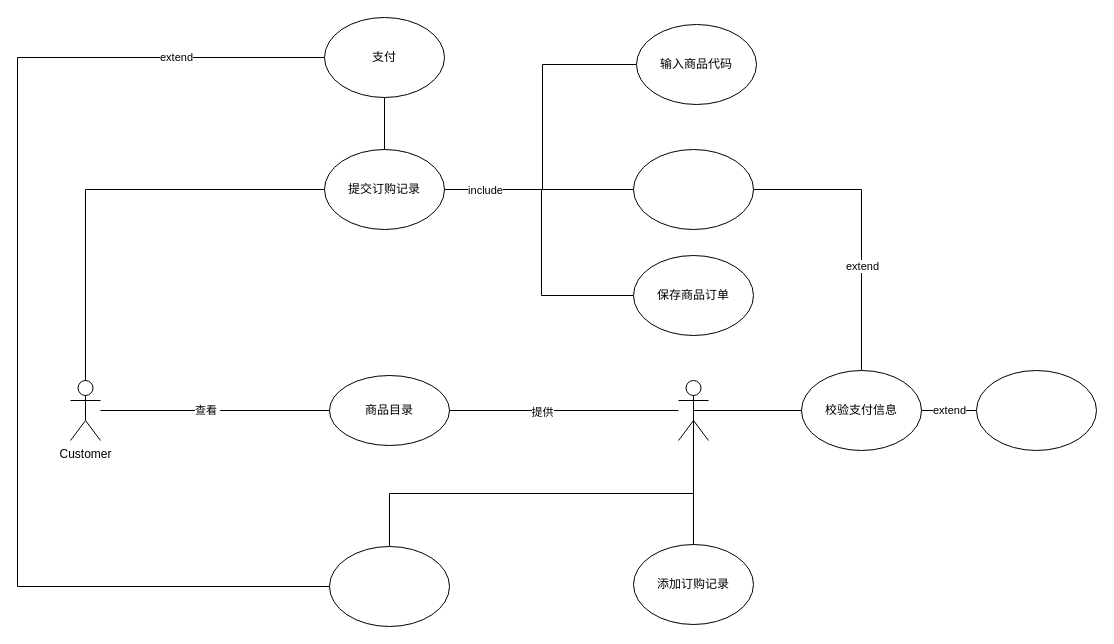
Some shapes in this 1114 by 644 pixel diagram are drawn without their labels. The shapes that lost their labels are listed below. From the top down, each one's centre as x and y in pixels, then its label:
pixel 693 189: 填写支付信息
pixel 693 410: 邮购公司
pixel 1036 410: 返回校验结果
pixel 389 586: 返回订单ID
